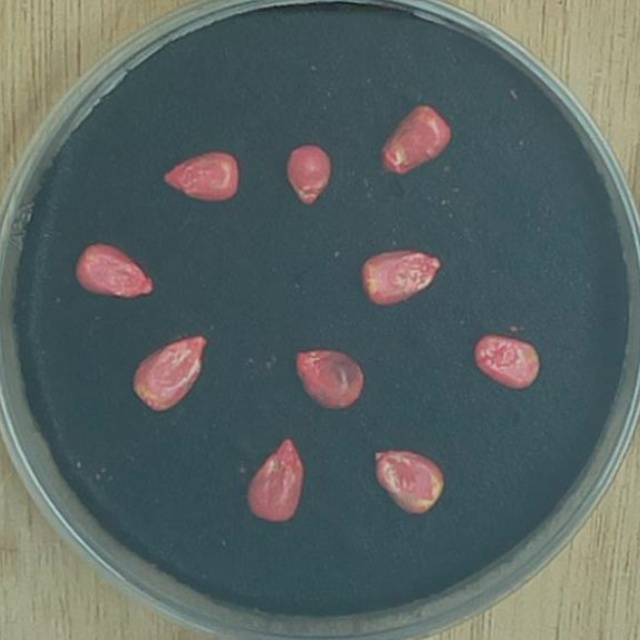Zea mays: (123, 326, 212, 419), (372, 97, 457, 182), (239, 429, 311, 526), (364, 439, 450, 519), (354, 240, 448, 313), (67, 234, 160, 305), (286, 341, 371, 416), (155, 141, 245, 208), (465, 326, 546, 397), (277, 135, 337, 212)
